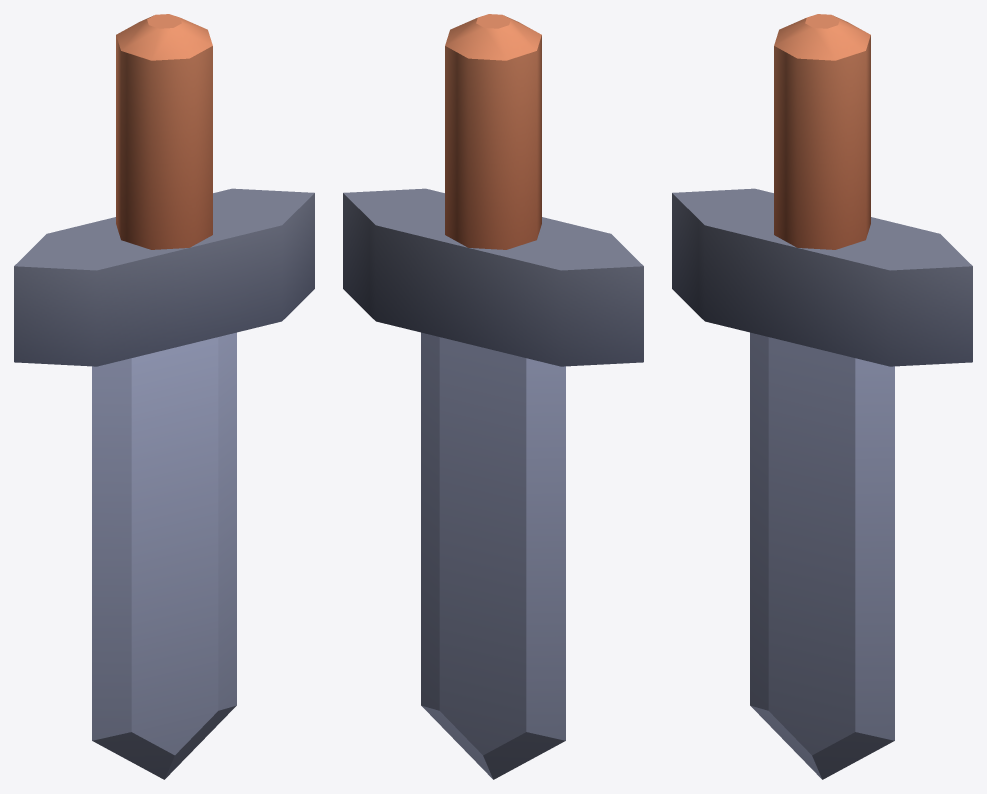
Rendered from weapon-sword.glb.
3 renders of one model, left to right at view 1: azimuth 30°, elevation 25°; view 2: azimuth 150°, elevation 25°; view 3: azimuth 330°, elevation 25°, orthographic.
Parts seen in each view (by area): view 1: weapon-sword; view 2: weapon-sword; view 3: weapon-sword.
Part boxes in pixels (box(x1,y1,x2,y2)): weapon-sword: box(14, 14, 314, 779); weapon-sword: box(343, 14, 643, 779); weapon-sword: box(672, 14, 972, 779).
Bounding box in the file's own units: 0.208 × 0.501 × 0.06.
1 material, 1 textured.
